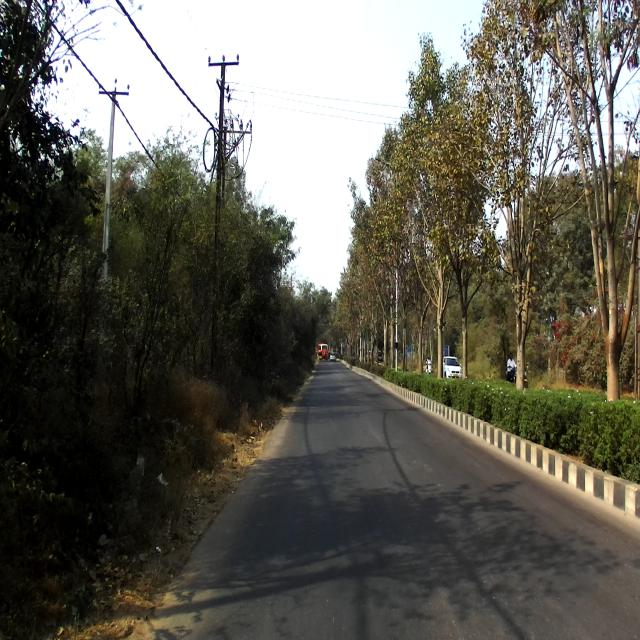electric pole ahead at: (193, 46, 255, 389)
